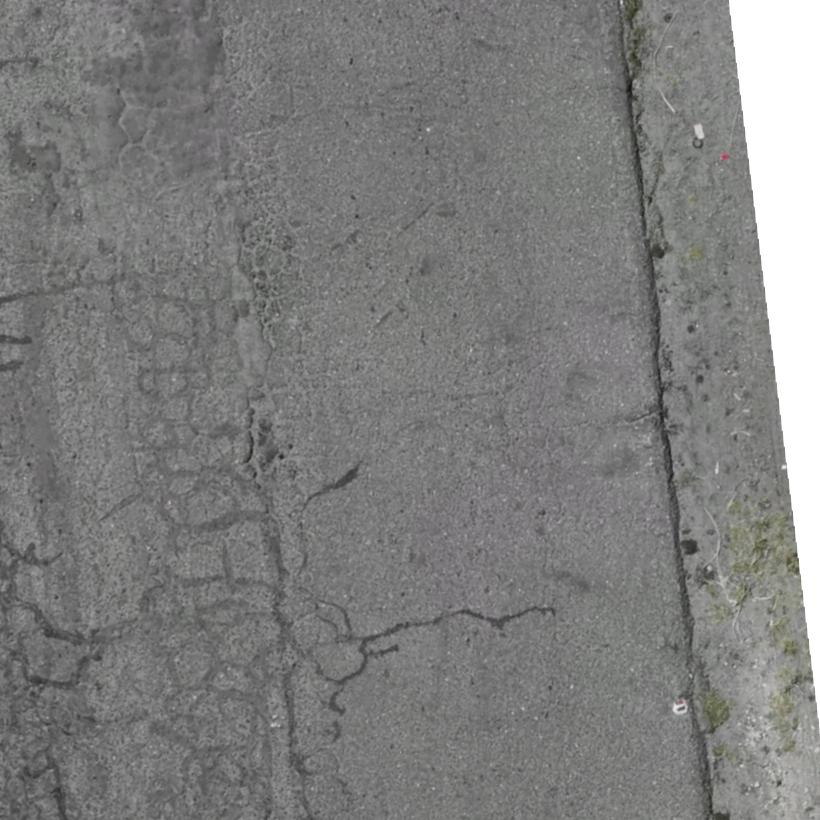GRIETA: (371, 606, 555, 640), (310, 460, 364, 499), (612, 412, 659, 425), (0, 290, 40, 305), (0, 335, 32, 343), (0, 361, 22, 371)
PIEL DE COCODRILO: (0, 0, 382, 819), (435, 320, 606, 487)
